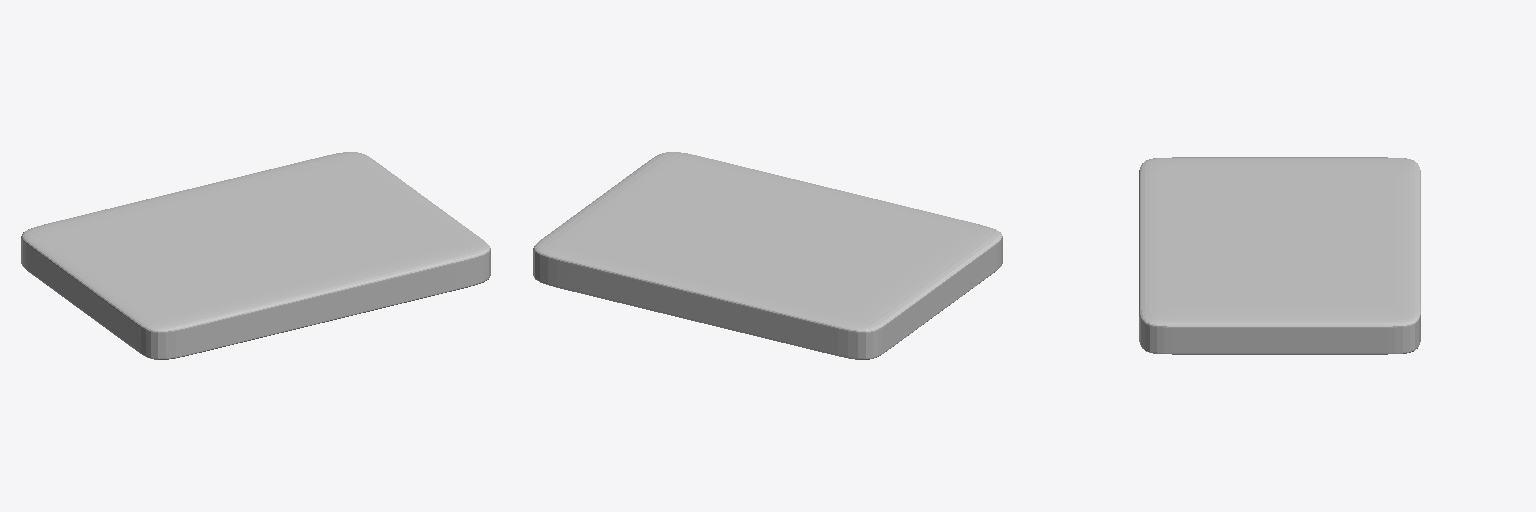
The model's file is colchon.obj.
3 views of the same model, side by side, from view 1: azimuth 30°, elevation 25°; view 2: azimuth 150°, elevation 25°; view 3: azimuth 270°, elevation 25° (orthographic).
Visible parts, largest first — view 1: colchon_Mesh; view 2: colchon_Mesh; view 3: colchon_Mesh.
Boxes of the visible parts, box(x1,y1,x2,y2) form: colchon_Mesh: box(21, 152, 490, 359); colchon_Mesh: box(533, 152, 1002, 359); colchon_Mesh: box(1139, 157, 1420, 354).
Size of the model in its own units: 6.69 by 0.6241 by 4.74.